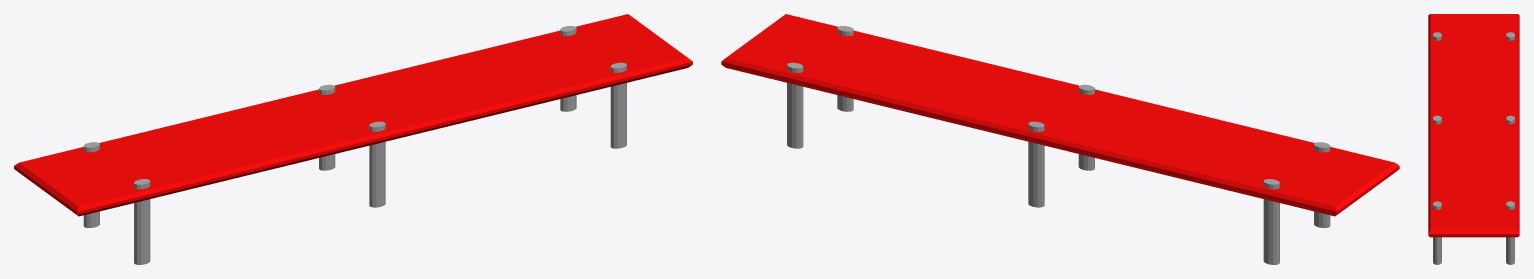
File: standseat.fbx
3 views of the same model, side by side, from view 1: azimuth 30°, elevation 25°; view 2: azimuth 150°, elevation 25°; view 3: azimuth 270°, elevation 25° (orthographic). The views are drawn at different scales.
Visible parts, largest first — view 1: bleavher_chair; view 2: bleavher_chair; view 3: bleavher_chair.
Part boxes in pixels (x1,y1,x2,y2): bleavher_chair: [14, 14, 692, 264]; bleavher_chair: [721, 14, 1399, 264]; bleavher_chair: [1428, 14, 1519, 264].
Bounding box in the file's own units: 51.53 × 6.41 × 9.09.
